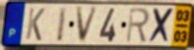4: (98, 6, 118, 44)
I: (56, 6, 69, 44)
K: (24, 7, 46, 43)
R: (125, 7, 151, 44)
V: (75, 6, 100, 44)
X: (148, 7, 176, 45)
